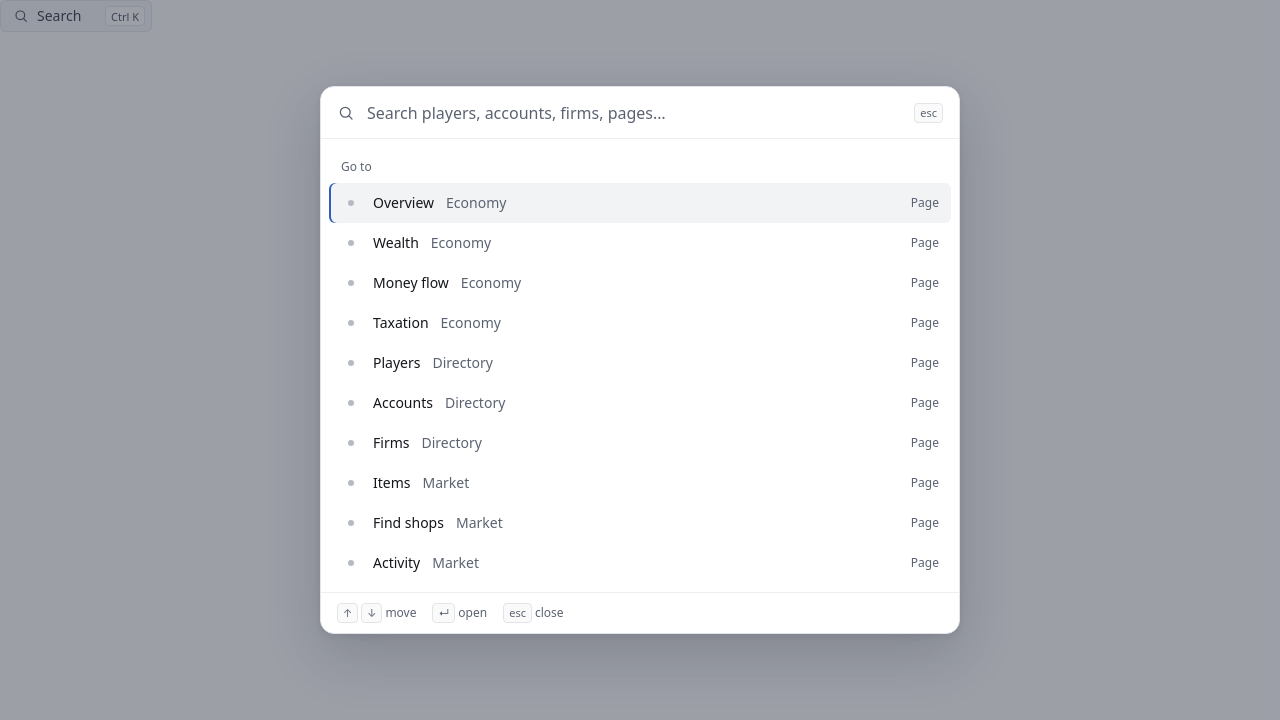
Test: entity search › aborts a stale request so its late answer never replaces newer results
This screenshot has width=1280, height=720.
In the dropdown: coordinates (635, 113) [367, 87, 902, 138], type "bo"
Wait 200 ms
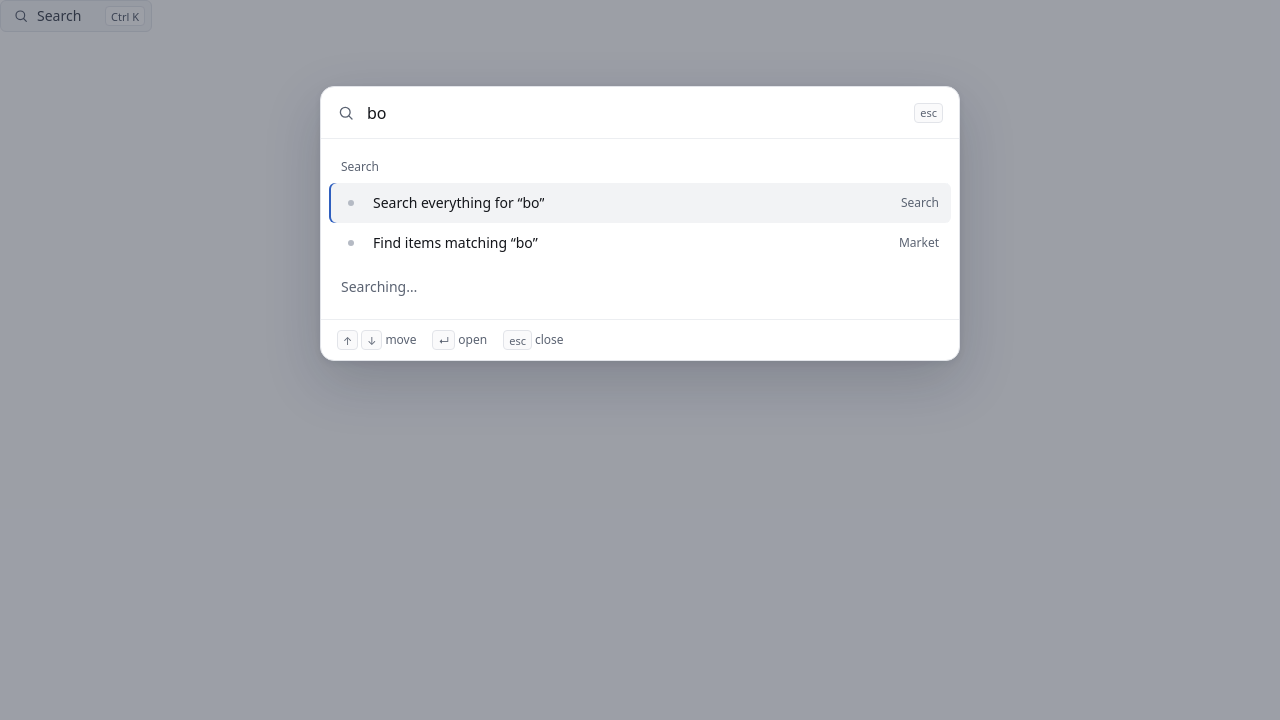
Replace the text in the dropdown with "alice": coordinates (635, 113) [367, 87, 902, 138]
Wait 200 ms
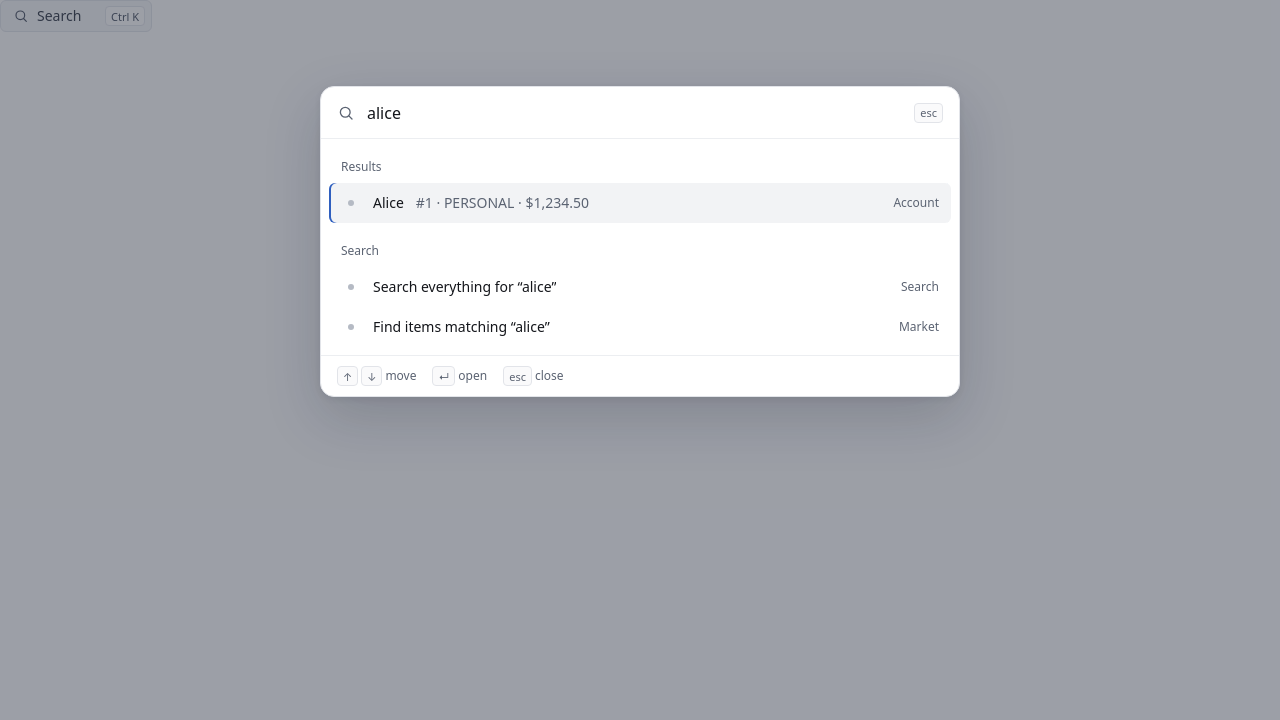
Check: the option "Alice #1 · PERSONAL · $1,234.50 Account" is shown, box [329, 183, 951, 223]
